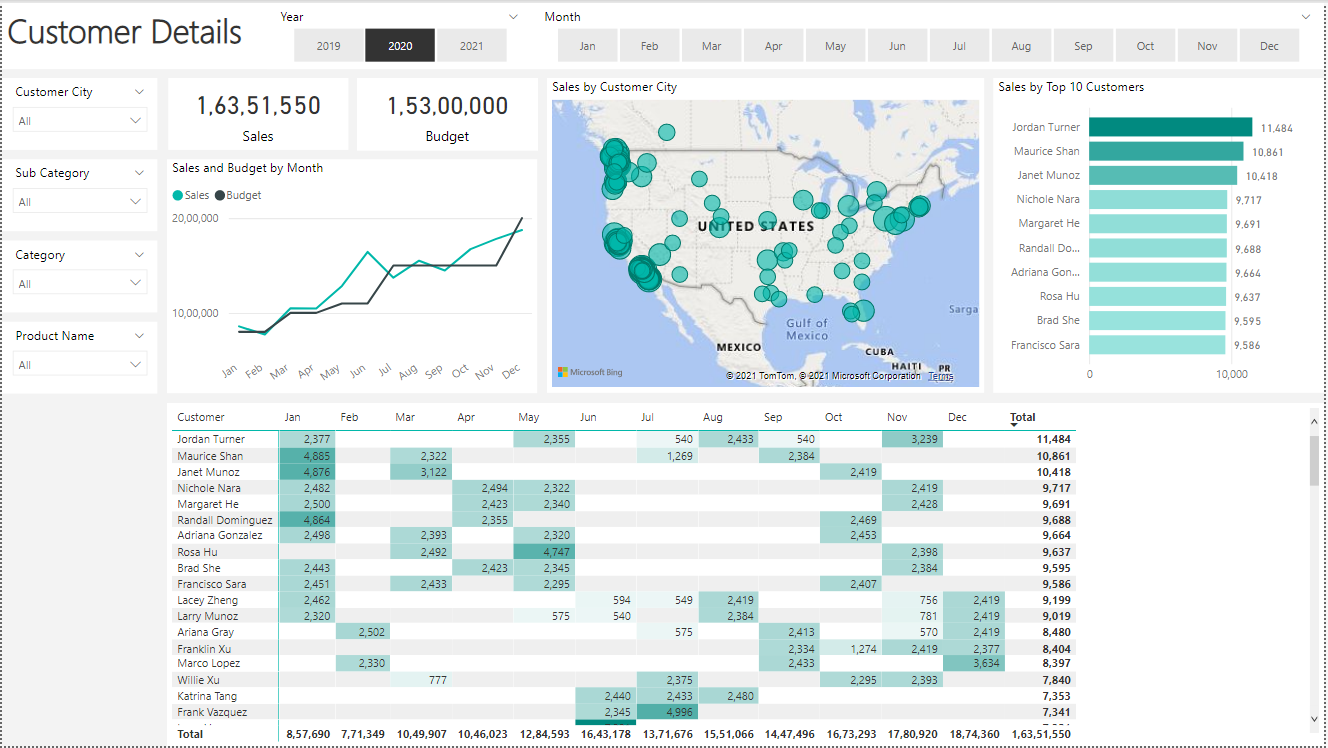

Layout of this report page (visuals, bound fields, positions):
{"tool":"powerbi","page":{"name":"Customer Details","canvas":[1280,720],"ordinal":1},"visuals":[{"type":"textbox","box":[0,0,1280,64],"z":0},{"type":"slicer","fields":{"Values":["DIM_Calendar.Year"]},"box":[256,0,256,64],"z":1000},{"type":"slicer","fields":{"Values":["DIM_Calendar.MonthShort"]},"box":[512,0,768,64],"z":2000},{"type":"slicer","fields":{"Values":["DIM_Customers.Customer City"]},"box":[0,73,150.5,69.3],"z":3000},{"type":"slicer","fields":{"Values":["DIM_Products.Product Category"]},"box":[0,229.9,150.5,69.3],"z":4000},{"type":"slicer","fields":{"Values":["DIM_Products.Product Name"]},"box":[0,308.4,150.5,69.3],"z":5000},{"type":"slicer","fields":{"Values":["DIM_Products.Sub Category"]},"box":[0,151.4,150.5,69.3],"z":6000},{"type":"lineChart","fields":{"Category":["DIM_Calendar.MonthShort"],"Y":["Analysis Metrics.Sales","Analysis Metrics.Budget"]},"box":[159.8,151.8,358.7,226.4],"z":7000},{"type":"card","fields":{"Values":["Analysis Metrics.Sales"]},"box":[160.7,72.8,174,69.2],"z":8000},{"type":"map","fields":{"Category":["DIM_Customers.Customer City"],"Size":["Analysis Metrics.Sales"]},"box":[527.3,72.8,423.5,304.5],"z":9000},{"type":"card","fields":{"Values":["Analysis Metrics.Budget"]},"box":[343.6,72.8,174.9,70.1],"z":10000},{"type":"pivotTable","fields":{"Rows":["DIM_Customers.Full Name"],"Columns":["DIM_Calendar.MonthShort"],"Values":["Analysis Metrics.Sales"]},"box":[159.8,387.1,1120.4,332.9],"z":11000},{"type":"barChart","title":"Sales by Top 10 Customers","fields":{"Category":["DIM_Customers.Full Name"],"Y":["Analysis Metrics.Sales"]},"box":[959.7,72.8,320.5,304.5],"z":12000}]}

Visuals, with their boxes in screenshot pixels (x1, y1, x2, y2), scaled from the page's 1280x720 canvas onto the 1328x748 screenshot:
textbox: detection(0, 0, 1327, 66)
slicer - DIM_Calendar.Year: detection(266, 0, 531, 66)
slicer - DIM_Calendar.MonthShort: detection(531, 0, 1327, 66)
slicer - DIM_Customers.Customer City: detection(0, 76, 156, 148)
slicer - DIM_Products.Product Category: detection(0, 239, 156, 311)
slicer - DIM_Products.Product Name: detection(0, 320, 156, 392)
slicer - DIM_Products.Sub Category: detection(0, 157, 156, 229)
lineChart - DIM_Calendar.MonthShort x Analysis Metrics.Sales: detection(166, 158, 538, 393)
card - Analysis Metrics.Sales: detection(167, 76, 347, 148)
map - DIM_Customers.Customer City x Analysis Metrics.Sales: detection(547, 76, 986, 392)
card - Analysis Metrics.Budget: detection(356, 76, 538, 148)
pivotTable - DIM_Customers.Full Name x DIM_Calendar.MonthShort: detection(166, 402, 1327, 747)
"Sales by Top 10 Customers" barChart: detection(996, 76, 1327, 392)
